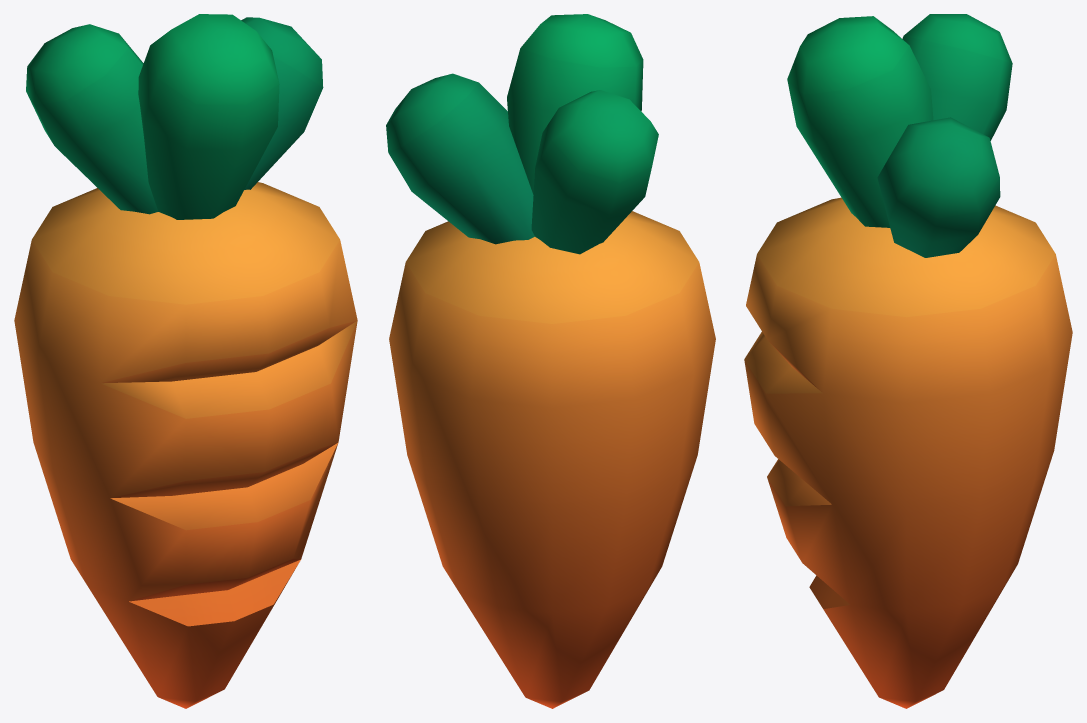
The model's file is ing_carrot.glb.
3 views of the same model, side by side, from view 1: azimuth 30°, elevation 25°; view 2: azimuth 150°, elevation 25°; view 3: azimuth 270°, elevation 25° (orthographic). The views are drawn at different scales.
Visible parts, largest first — view 1: food_ingredient_carrot_Cylinder.896; view 2: food_ingredient_carrot_Cylinder.896; view 3: food_ingredient_carrot_Cylinder.896.
Part boxes in pixels (left/top/right/bottom): food_ingredient_carrot_Cylinder.896: left=14, top=14, right=357, bottom=708; food_ingredient_carrot_Cylinder.896: left=386, top=14, right=715, bottom=708; food_ingredient_carrot_Cylinder.896: left=744, top=14, right=1072, bottom=708.
Size of the model in its own units: 0.56 by 1.27 by 0.5529.
1 material, 1 textured.
